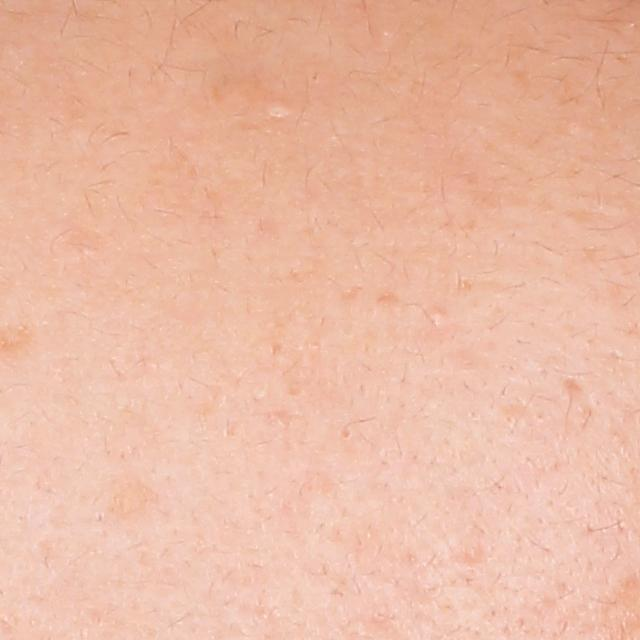atrophic_scar: (559, 376, 589, 397)
comedo: (264, 92, 289, 117), (334, 421, 352, 442)
